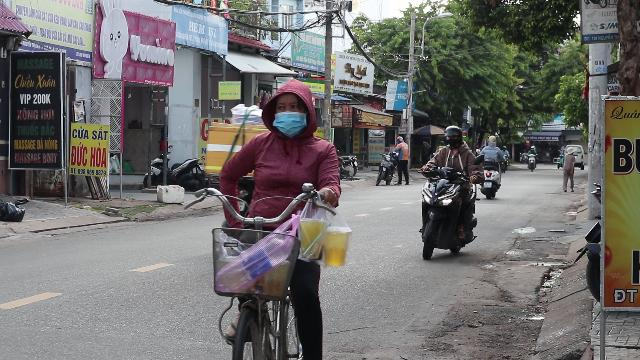helmet: (442, 125, 463, 147)
motorcyclist: (414, 124, 482, 260)
